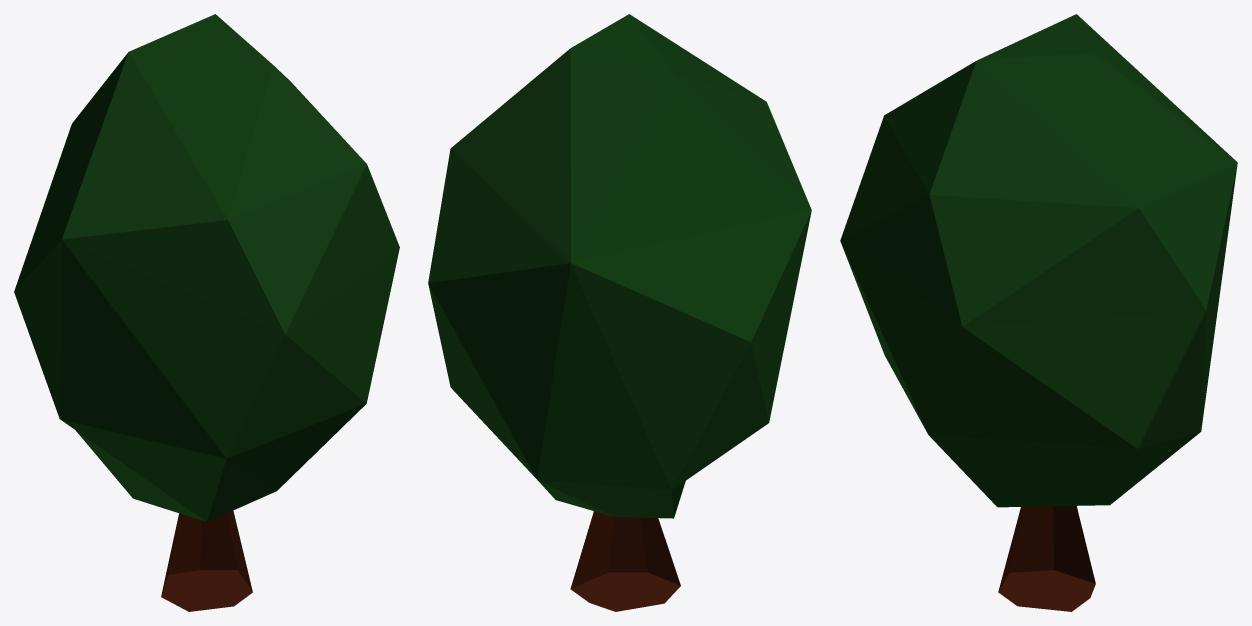
Rendered from Arbol_largo.obj.
3 views of the same model, side by side, from view 1: azimuth 30°, elevation 25°; view 2: azimuth 150°, elevation 25°; view 3: azimuth 270°, elevation 25° (orthographic).
Parts seen in each view (by area): view 1: Tree; view 2: Tree; view 3: Tree.
Boxes of the visible parts, x1=… form: Tree: x1=14, y1=14, x2=399, y2=611; Tree: x1=428, y1=14, x2=811, y2=611; Tree: x1=840, y1=14, x2=1237, y2=611.
Size of the model in its own units: 6.2 by 10.31 by 6.71.
